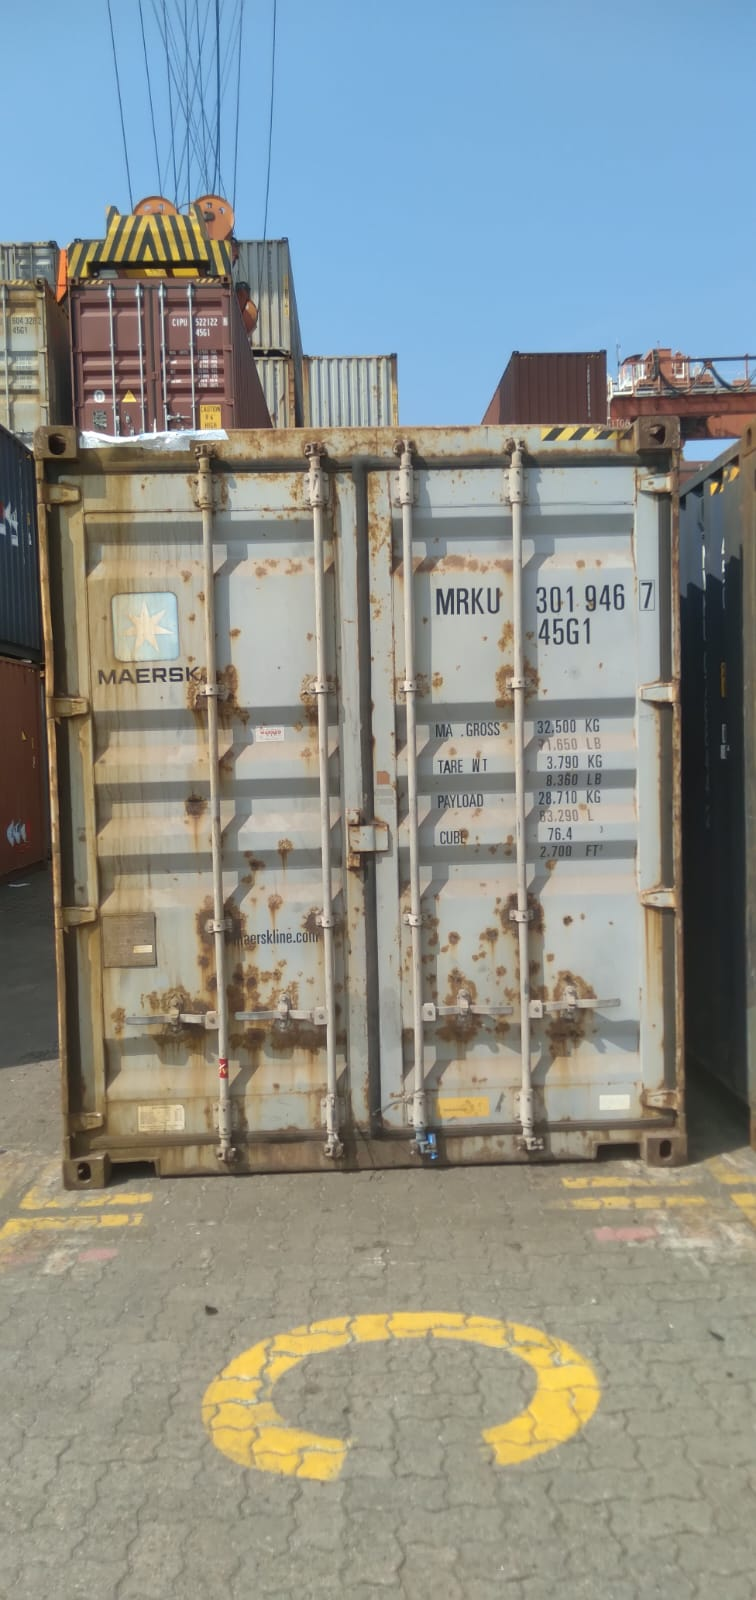rust: (355, 898, 602, 1067), (148, 881, 312, 1055)
